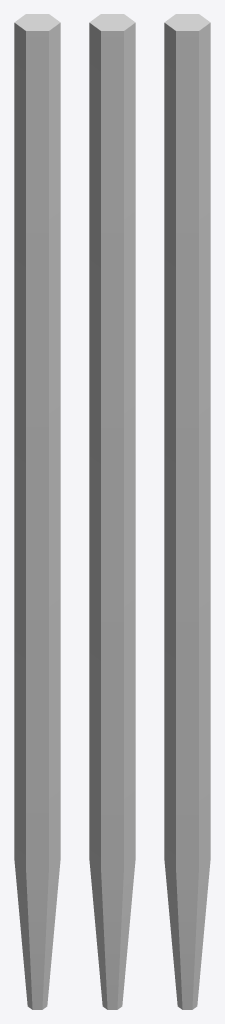
Rendered from stylus.glb.
3 views of the same model, side by side, from view 1: azimuth 90°, elevation 25°; view 2: azimuth 210°, elevation 25°; view 3: azimuth 270°, elevation 25° (orthographic).
Parts seen in each view (by area): view 1: Console Mintendo DX Stylus; view 2: Console Mintendo DX Stylus; view 3: Console Mintendo DX Stylus.
Part boxes in pixels (x1,y1,x2,y2): Console Mintendo DX Stylus: [14, 14, 60, 1009]; Console Mintendo DX Stylus: [89, 14, 135, 1009]; Console Mintendo DX Stylus: [164, 14, 210, 1009].
Size of the model in its own units: 0.00725 by 0.1962 by 0.00838.
Materials: 1 (1 with a texture image).
